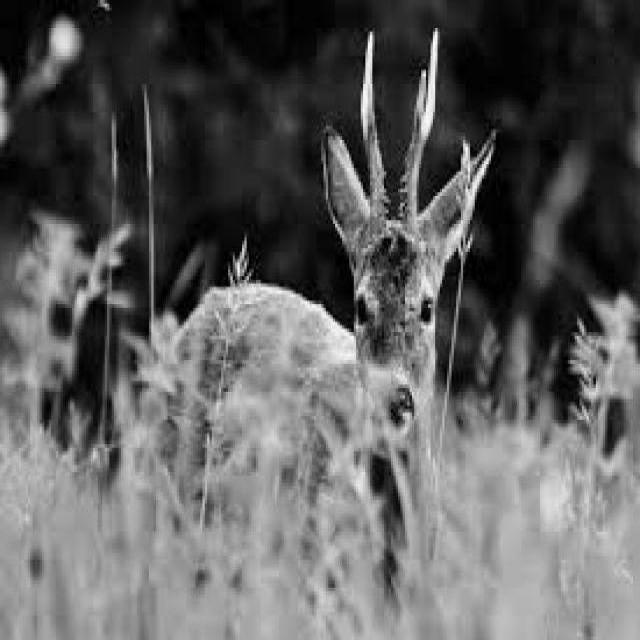deer: (157, 25, 504, 532)
